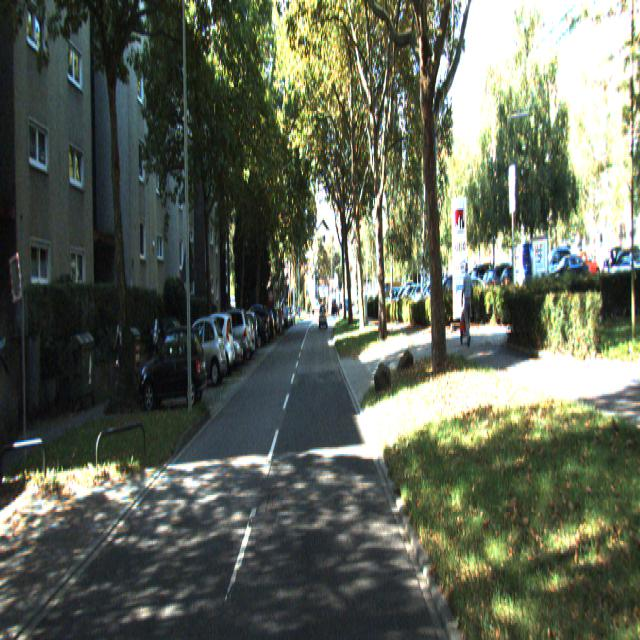Car: (139, 318, 208, 406), (174, 314, 228, 391), (188, 312, 237, 381), (204, 300, 252, 362)
